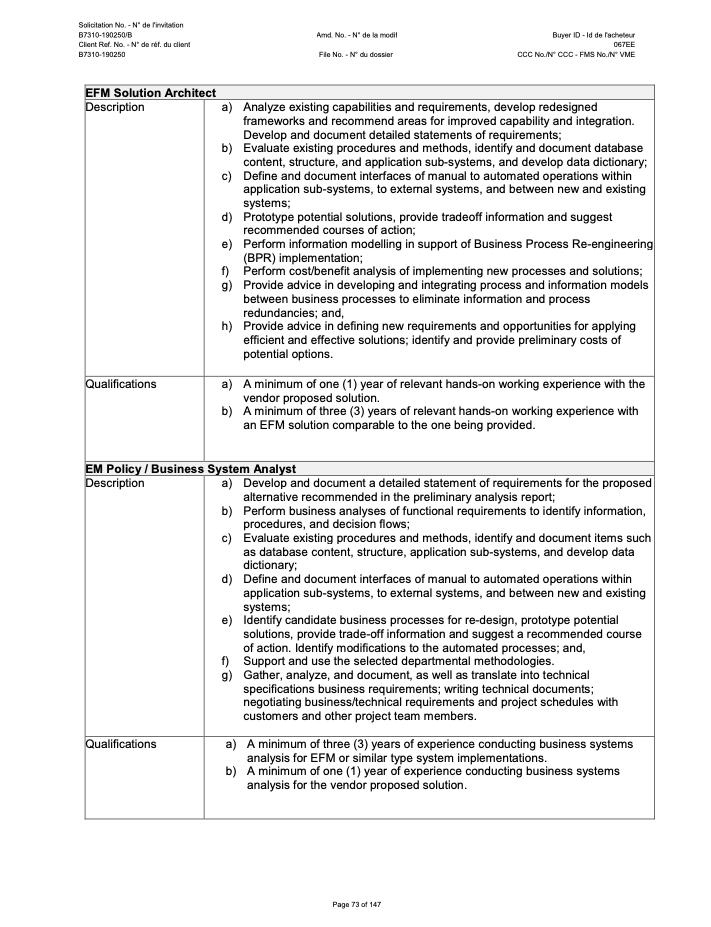cell: (204, 97, 651, 375), (206, 476, 655, 738), (205, 736, 657, 820), (206, 376, 657, 459), (86, 99, 205, 376), (86, 477, 203, 736), (83, 374, 203, 460), (86, 738, 206, 820)
head: (83, 80, 656, 101), (83, 459, 652, 477), (90, 460, 657, 476)
tabulation: (76, 71, 665, 838)
